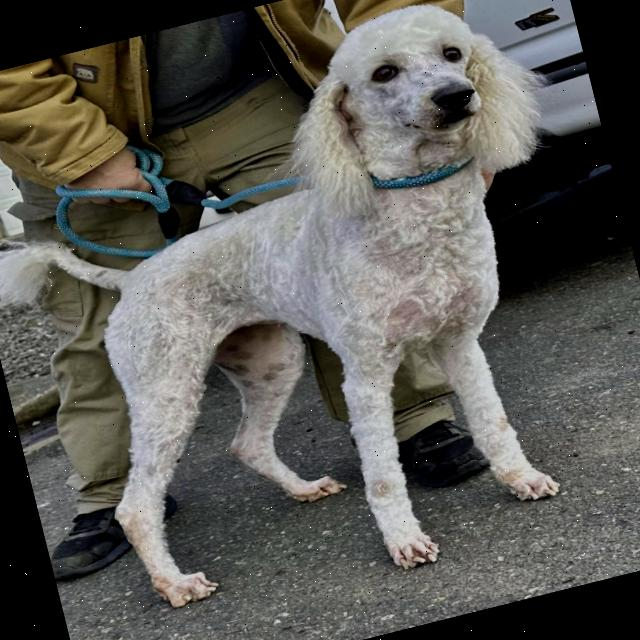Poodle_dog: (243, 0, 577, 249)
